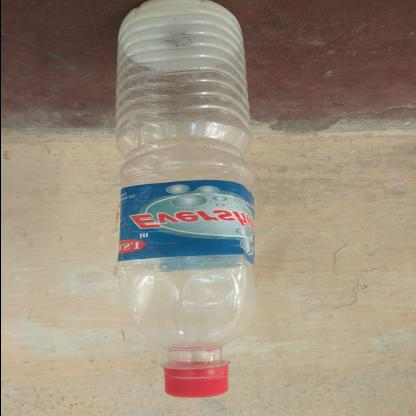bottle: (1, 225, 396, 332)
